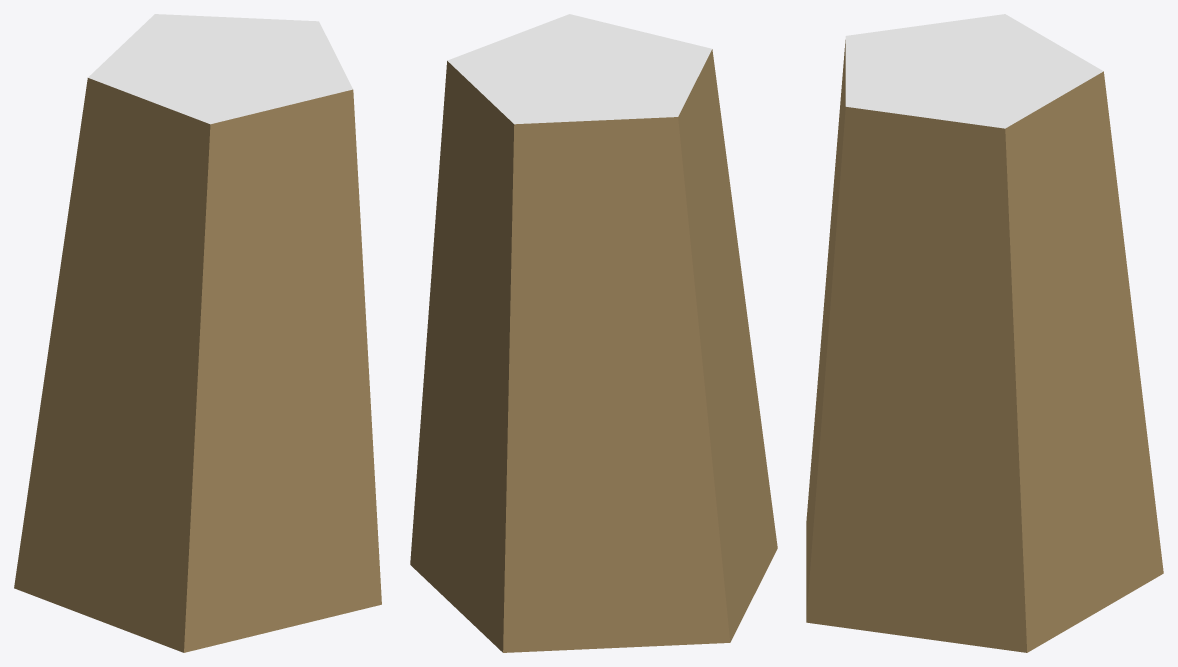
The model's file is Acacia_Stump_Snow_05_LOD.fbx.
The picture shows the model from 3 angles, left to right: view 1: azimuth 30°, elevation 25°; view 2: azimuth 150°, elevation 25°; view 3: azimuth 270°, elevation 25°; orthographic projection.
Parts seen in each view (by area): view 1: Acacia_Stump_Snow_05_LOD0; view 2: Acacia_Stump_Snow_05_LOD0; view 3: Acacia_Stump_Snow_05_LOD0.
Boxes of the visible parts, bbox=[...] form: Acacia_Stump_Snow_05_LOD0: bbox=[14, 14, 381, 652]; Acacia_Stump_Snow_05_LOD0: bbox=[410, 14, 777, 652]; Acacia_Stump_Snow_05_LOD0: bbox=[806, 14, 1163, 652].
Size of what is drawn, in the model's own units: 41.52 by 62.29 by 39.48.
